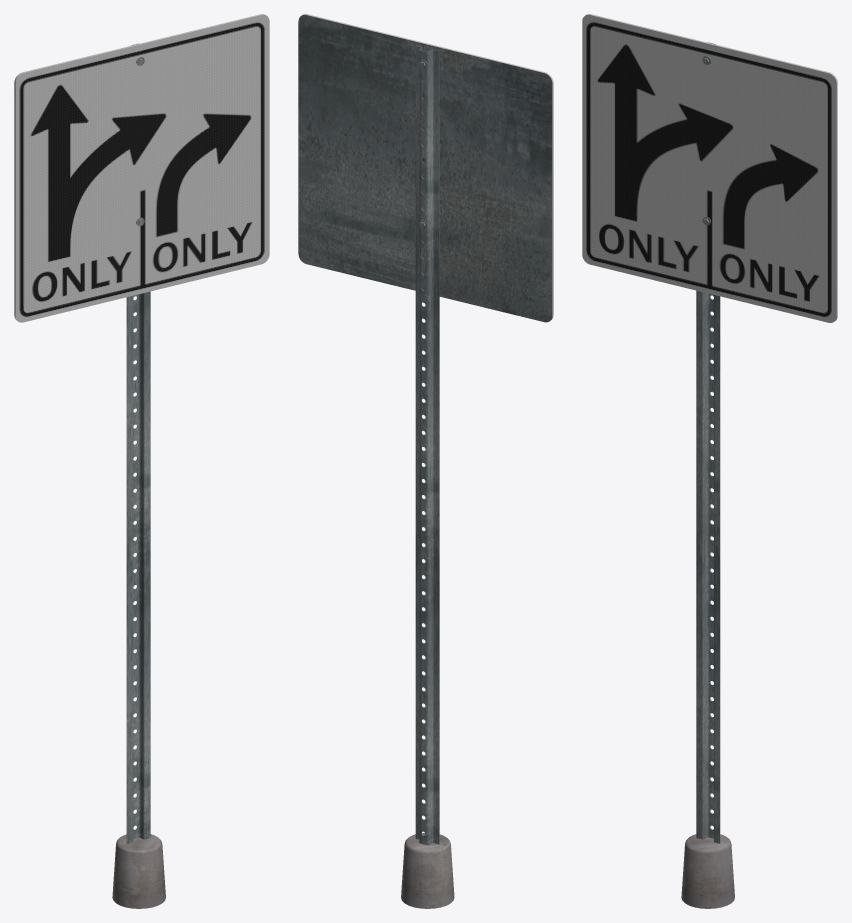
Rendered from turnarrows3_nsoc.obj.
3 views of the same model, side by side, from view 1: azimuth 30°, elevation 25°; view 2: azimuth 150°, elevation 25°; view 3: azimuth 330°, elevation 25° (orthographic).
Parts seen in each view (by area): view 1: sign_turn_arrows_1; view 2: sign_turn_arrows_1; view 3: sign_turn_arrows_1.
Part boxes in pixels (left/top/right/bottom): sign_turn_arrows_1: left=14, top=14, right=269, bottom=908; sign_turn_arrows_1: left=298, top=14, right=553, bottom=908; sign_turn_arrows_1: left=582, top=14, right=837, bottom=908.
Bounding box in the file's own units: 32 × 103 × 5.84.
Materials: 3 (3 with a texture image).
